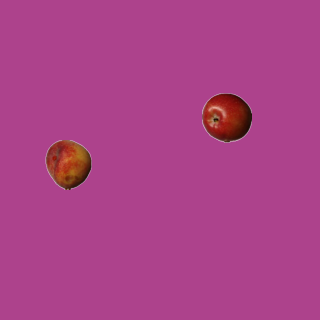Apple Braeburn: (201, 92, 251, 142)
Peach: (43, 139, 93, 189)
